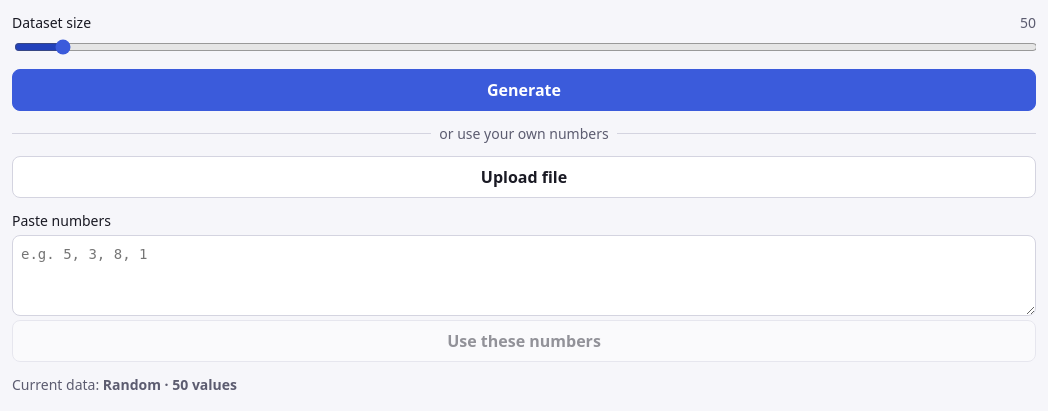
DataPanel (random data) › Generate replaces the dataset with one of the chosen size
Set the slider labelled "Dataset size" to "200". click: point(215, 47)
box: [14, 39, 1036, 55]
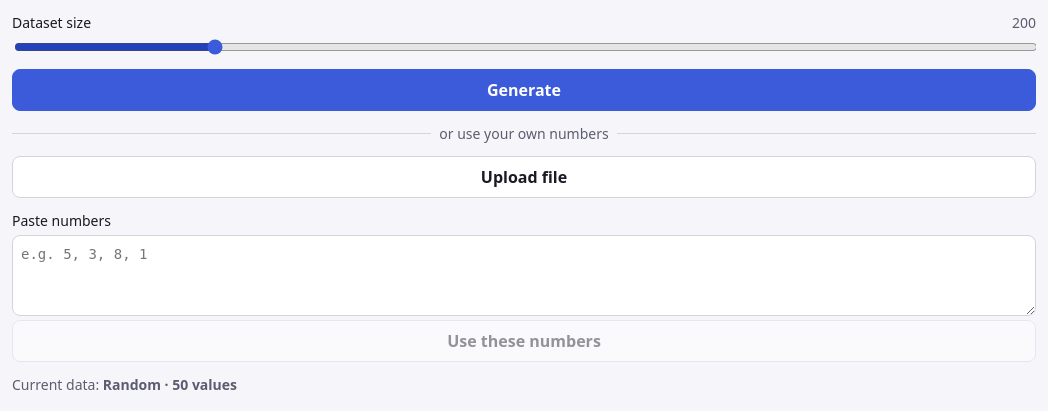
Click the button "Generate". click: point(524, 90)
box: [12, 69, 1036, 111]
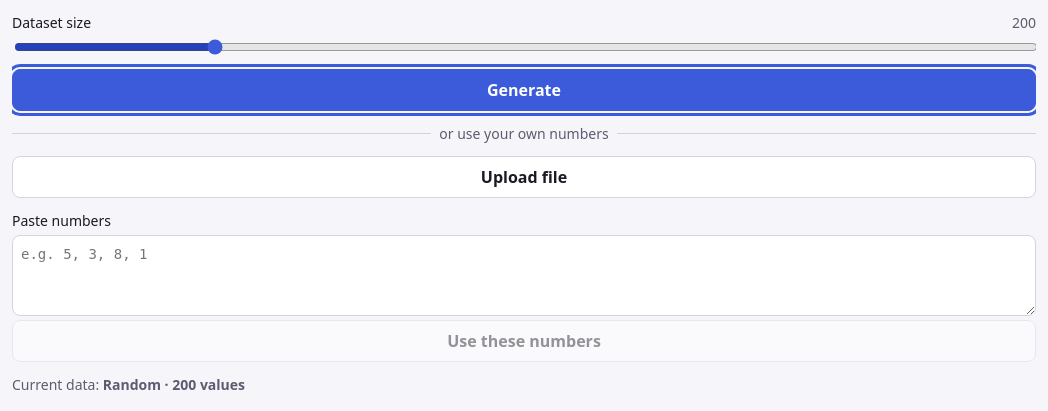
expect the text "Random · 200 values" is shown: met, box [103, 375, 245, 394]
